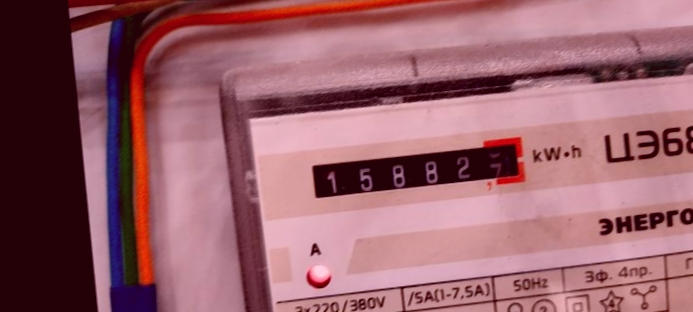1: (324, 165, 340, 194)
2: (454, 151, 473, 180)
5: (356, 162, 376, 191)
7: (487, 158, 504, 176)
8: (388, 159, 407, 189), (422, 155, 440, 184)
screen: (297, 126, 537, 210)
